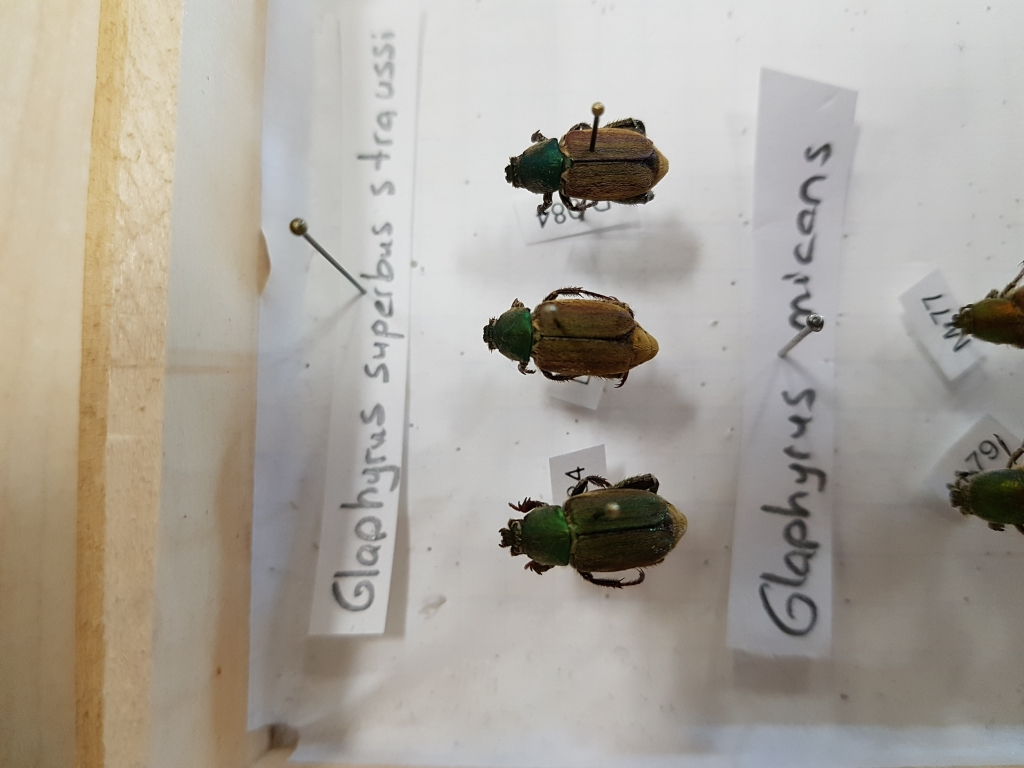Glaphyrus_superbus: (484, 468, 702, 600), (483, 277, 675, 396), (504, 108, 683, 221)
